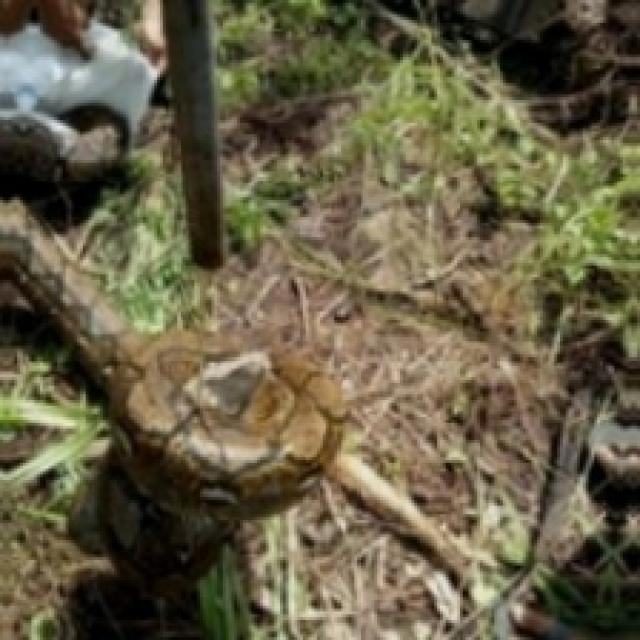reticulated python: (0, 201, 341, 584)
